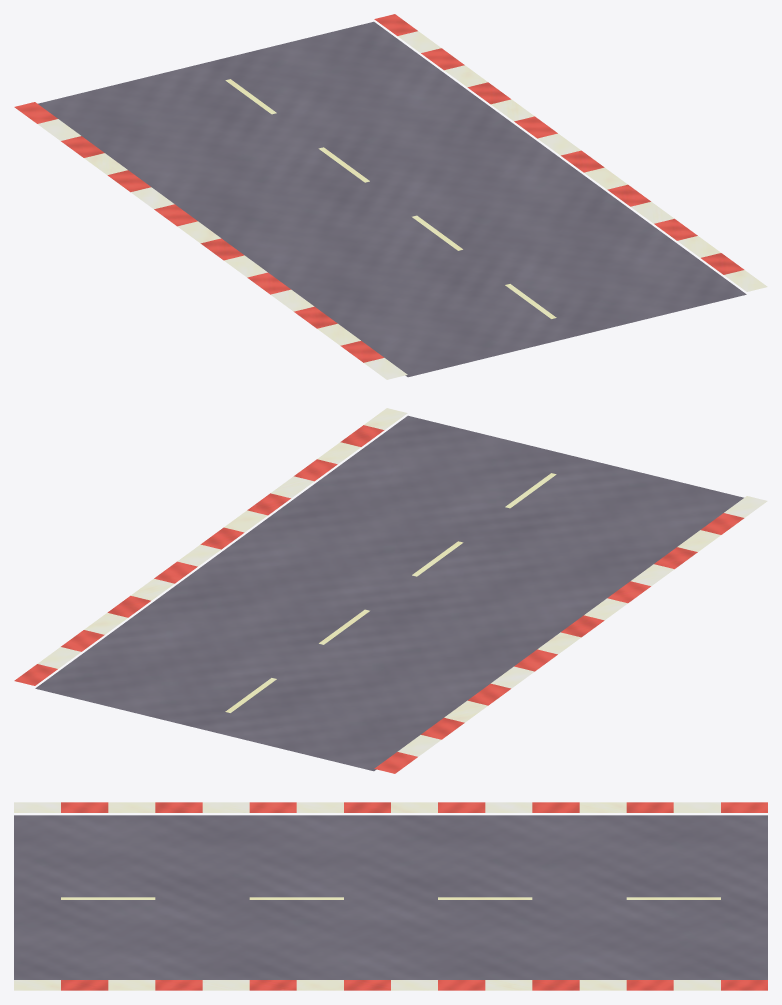
The model's file is race_road_straight.glb.
The picture shows the model from 3 angles, top to bottom: view 1: azimuth 30°, elevation 25°; view 2: azimuth 150°, elevation 25°; view 3: azimuth 270°, elevation 25°; orthographic projection.
Visible parts, largest first — view 1: Body; view 2: Body; view 3: Body.
Boxes of the visible parts, <box> form: Body: <box>14,14,767,379</box>; Body: <box>14,408,767,773</box>; Body: <box>14,802,767,990</box>.
Bounding box in the file's own units: 4.72 × 0.03 × 8.
1 material, 1 textured.
